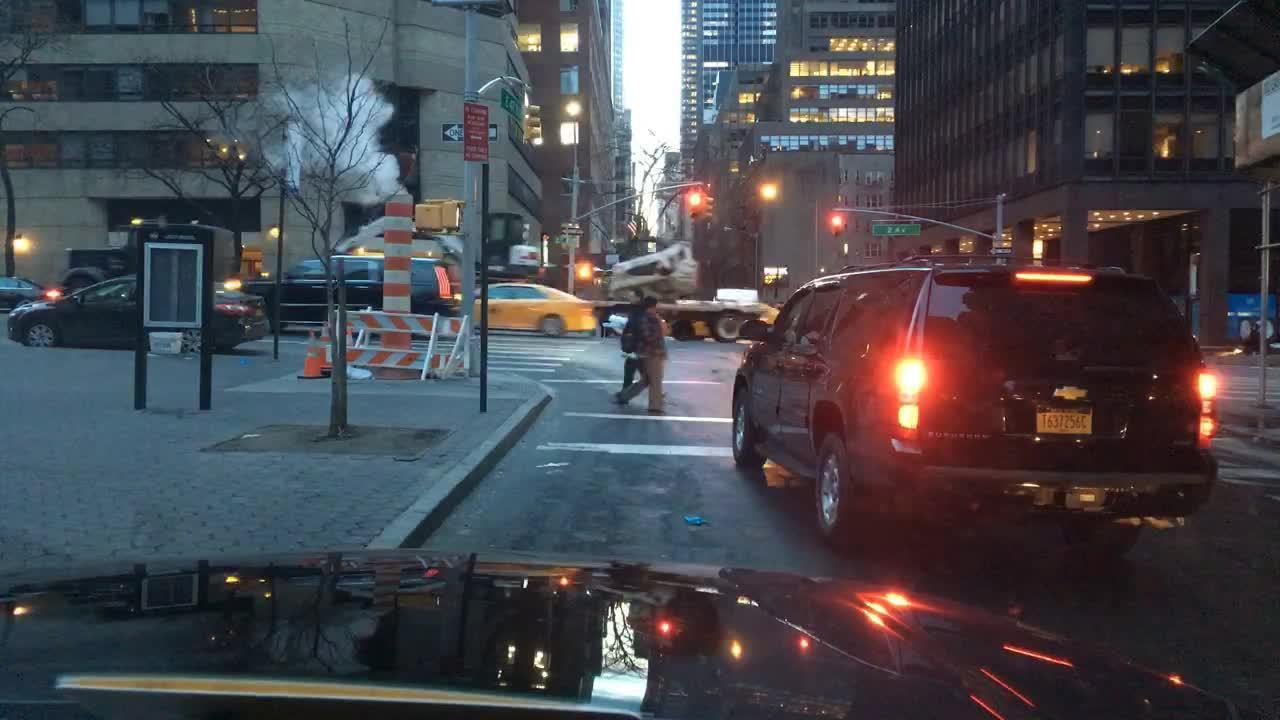chevrolet: (1045, 376, 1100, 408)
